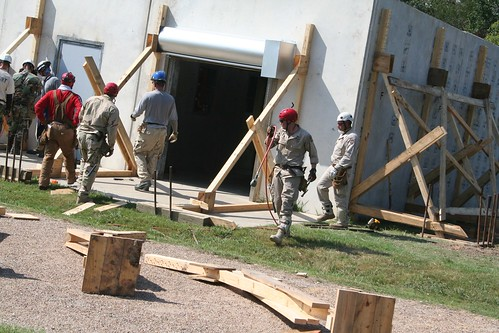building: (25, 1, 488, 225)
firefighter: (262, 107, 311, 253), (128, 72, 183, 190), (34, 69, 86, 192), (75, 87, 124, 200), (314, 113, 360, 227)
trash: (70, 218, 374, 333)
